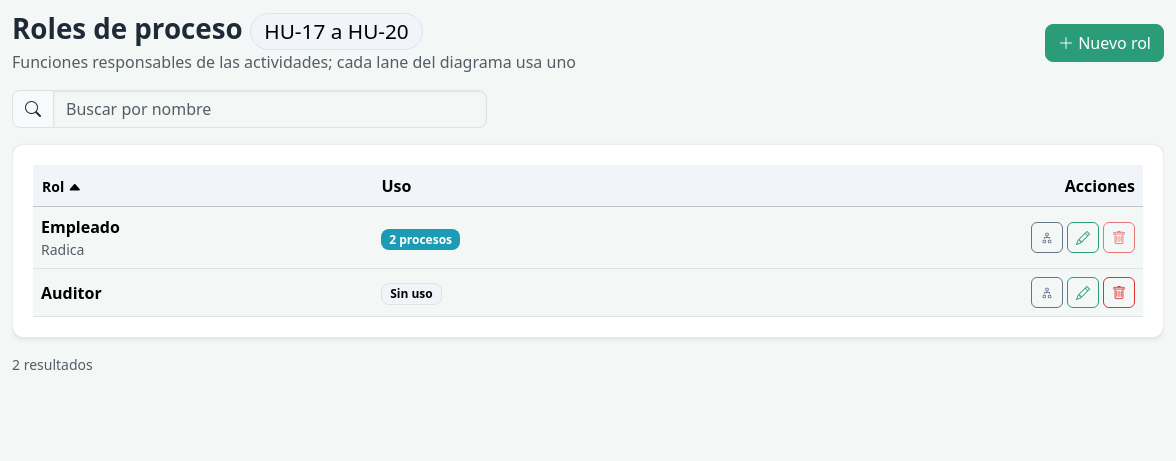
it: RolesProcesoComponent (HU-17 a HU-20) › crea un rol desde el formulario y recarga la lista
Click the button with id "nuevoRolBtn" at (1104, 43), box [1045,24,1164,62]
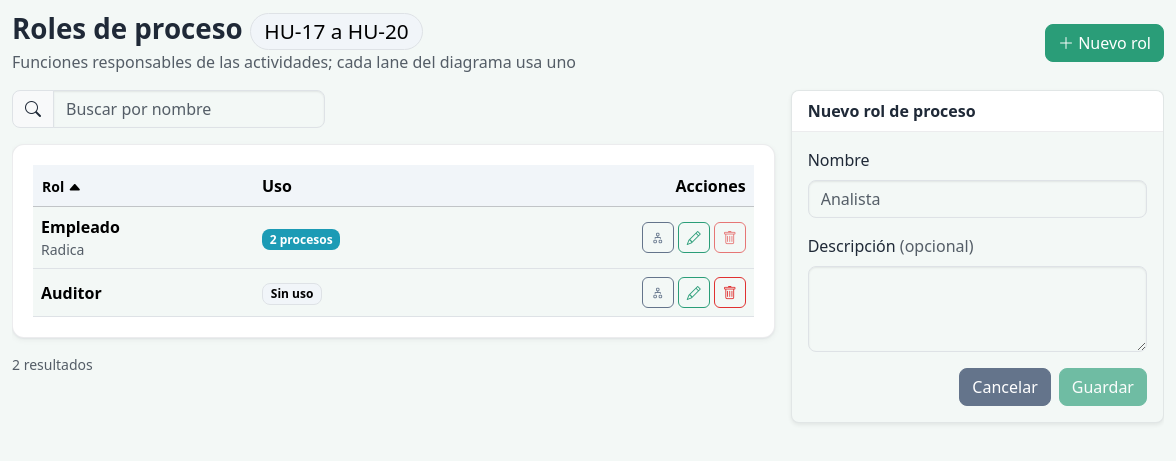
Type "  Analista  " into the field with id "rolNombre" at (977, 199), box [808,180,1147,218]
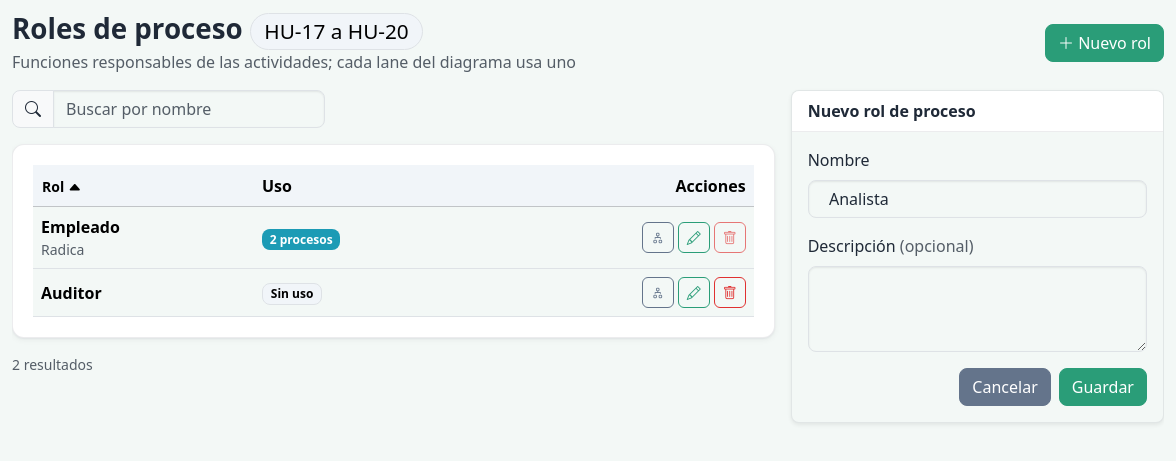
Click the button with id "guardarRolBtn" at (1103, 387), box [1059,368,1147,406]
Wait 300 ms
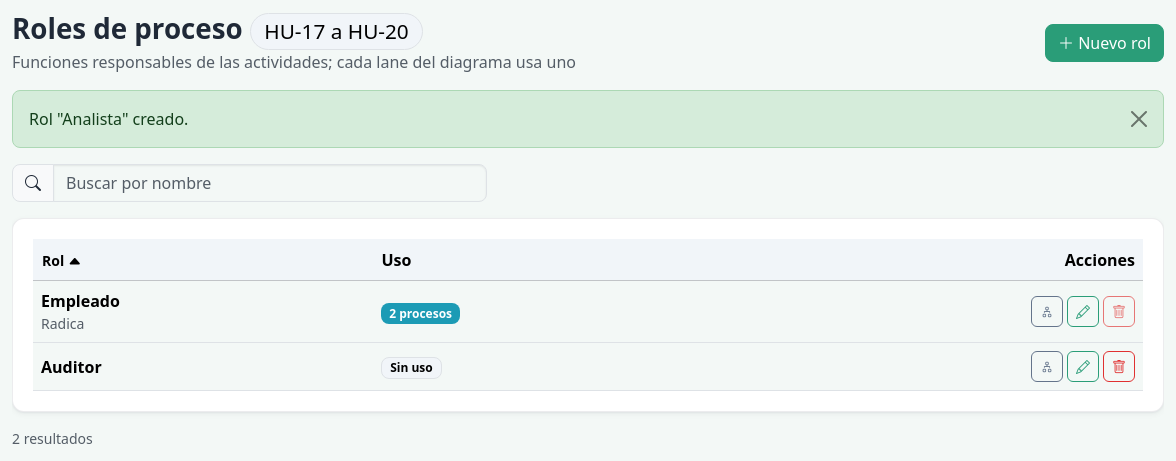
Check: the element with id "avisoRoles" reads "Rol \"Analista\" creado.", box [29,108,188,130]
Check: the label with id "rolNombre" is gone
